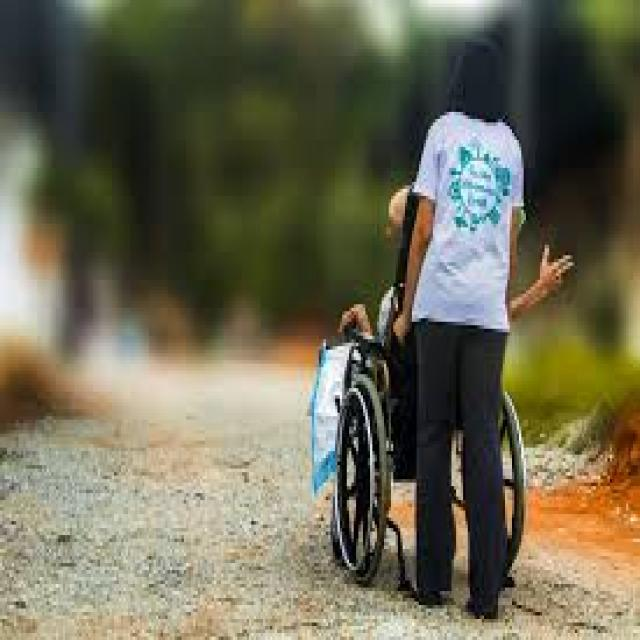wheelchairs: (318, 210, 530, 594)
